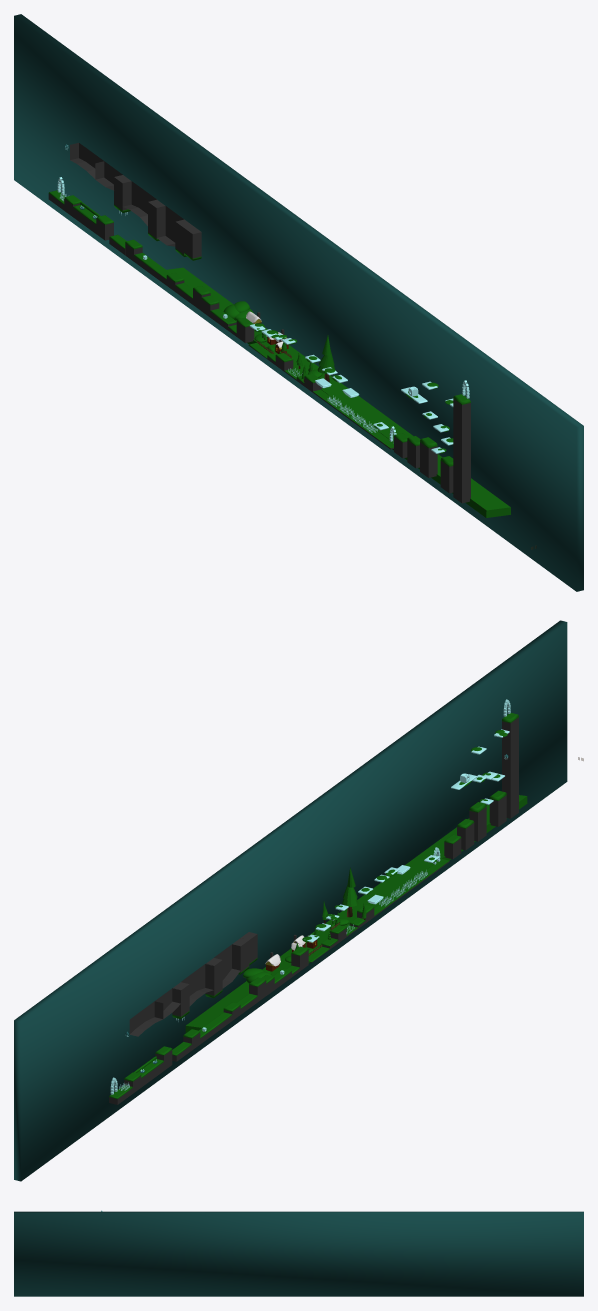
The model's file is LocationNew011.fbx.
The picture shows the model from 3 angles, top to bottom: view 1: azimuth 30°, elevation 25°; view 2: azimuth 150°, elevation 25°; view 3: azimuth 270°, elevation 25°; orthographic projection. The views are drawn at different scales.
Visible parts, largest first — view 1: Cube.002, Cube.001, Cube.087; view 2: Cube.002, Cube.001, Cube.087, Cube.068; view 3: Cube.002.
Part boxes in pixels (box(x1,y1,x2,y2)): Cube.002: box(14, 14, 583, 591); Cube.001: box(166, 267, 510, 517); Cube.087: box(453, 419, 470, 503); Cube.002: box(14, 620, 567, 1181); Cube.001: box(185, 795, 527, 1032); Cube.087: box(502, 737, 518, 818); Cube.068: box(129, 1001, 163, 1036); Cube.002: box(14, 1211, 583, 1296).
Bounding box in the file's own units: 1719 × 6488 × 40282.
